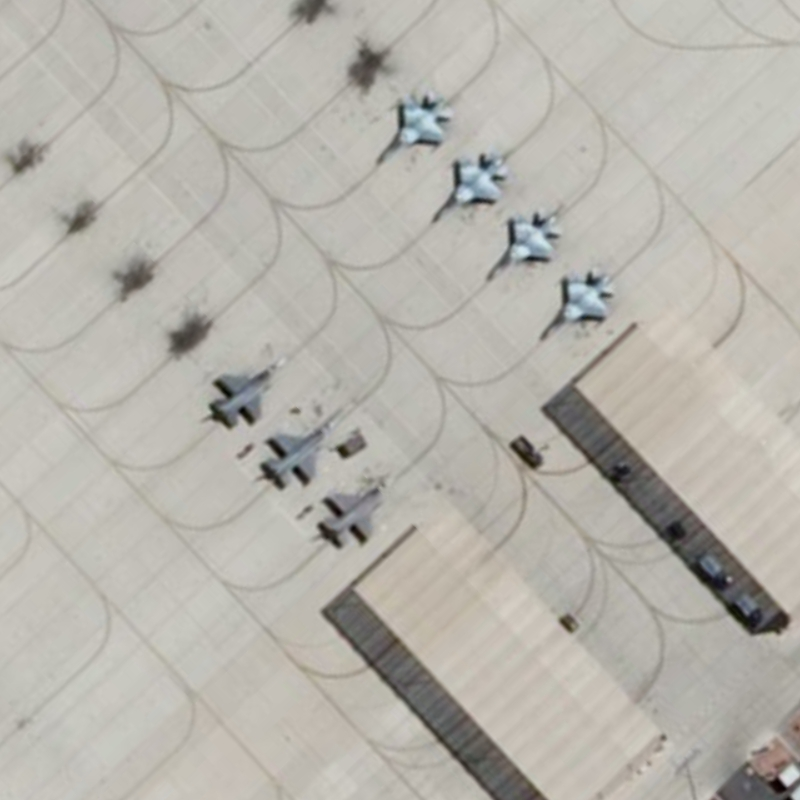A5: (369, 80, 458, 166), (199, 349, 287, 435), (259, 412, 343, 496), (309, 473, 396, 553), (535, 267, 621, 343), (480, 205, 567, 280), (432, 143, 510, 218)
